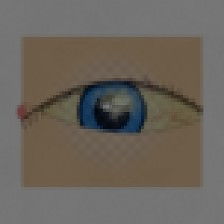corneal_ulcer: (89, 80, 146, 125)
